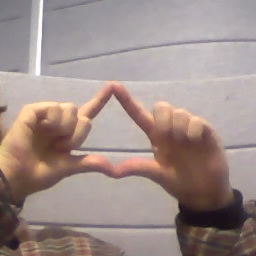J: (5, 77, 232, 191)
